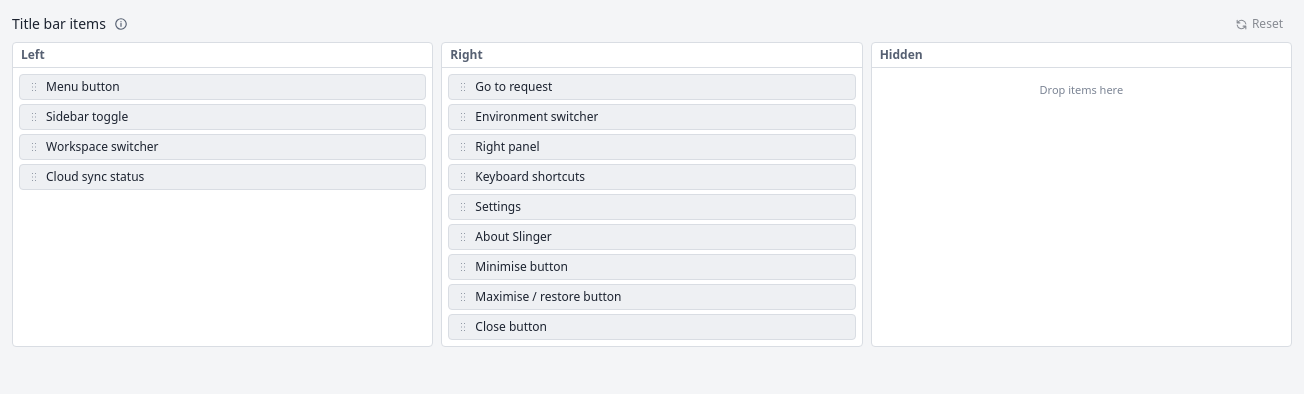
Test: title bar layout › the editor moves items with the arrow keys, saves at once, and resets
The width and height of the screenshot is (1304, 394).
# Workspace switcher: up within Left, then to Right, then to Hidden.
Press ArrowUp in the button "Workspace switcher", box [19,134,426,160]
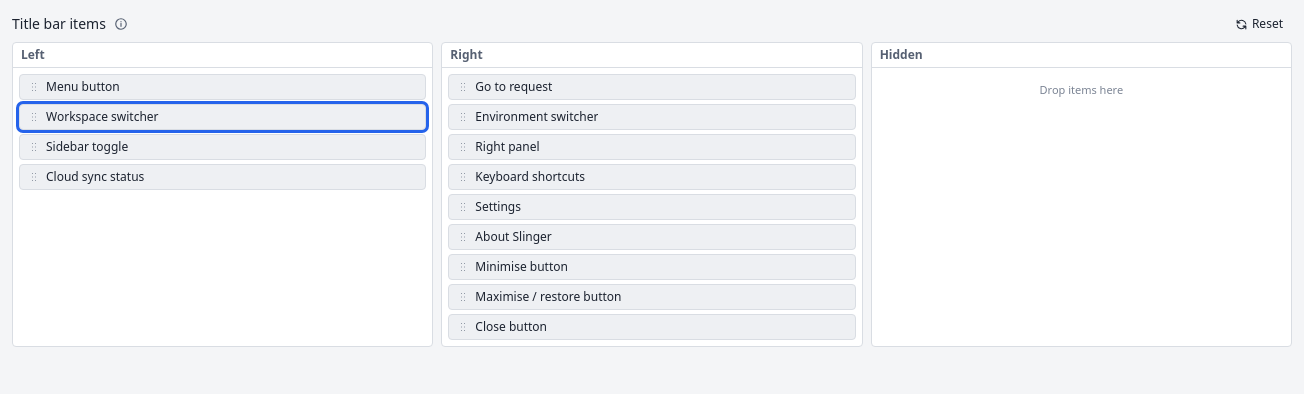
Press ArrowRight in the button "Workspace switcher", box [19,104,426,130]
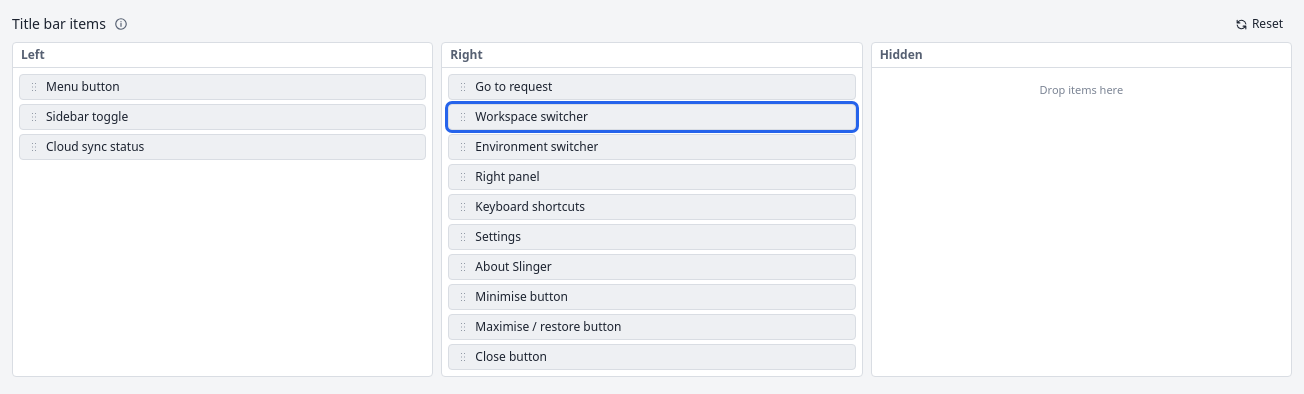
Press ArrowRight in the button "Workspace switcher", box [448,104,856,130]
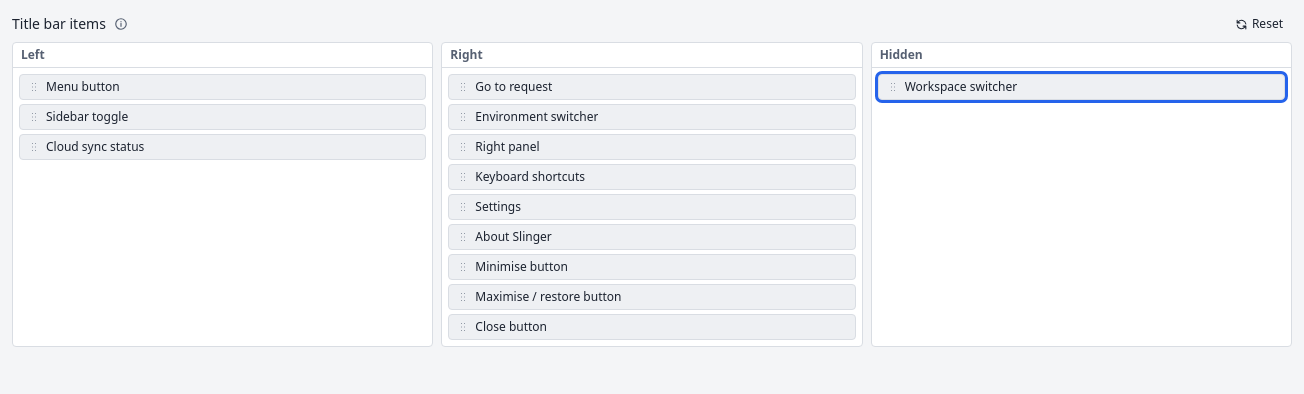
# Settings cannot be hidden.
Press ArrowRight in the button with aria-label "Settings, right", box [448,194,856,220]
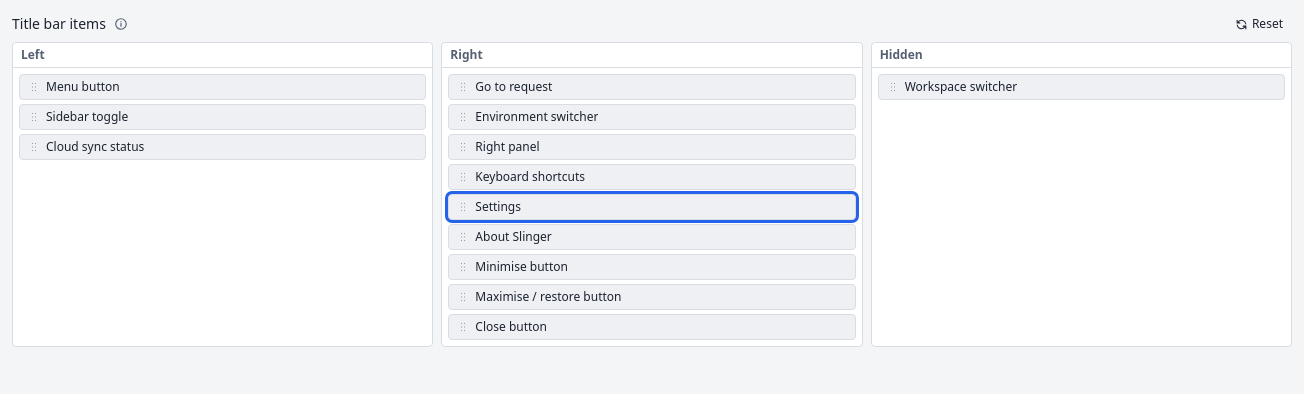
Click the button "Reset".
click(1259, 24)  # box [1226,12,1292,36]
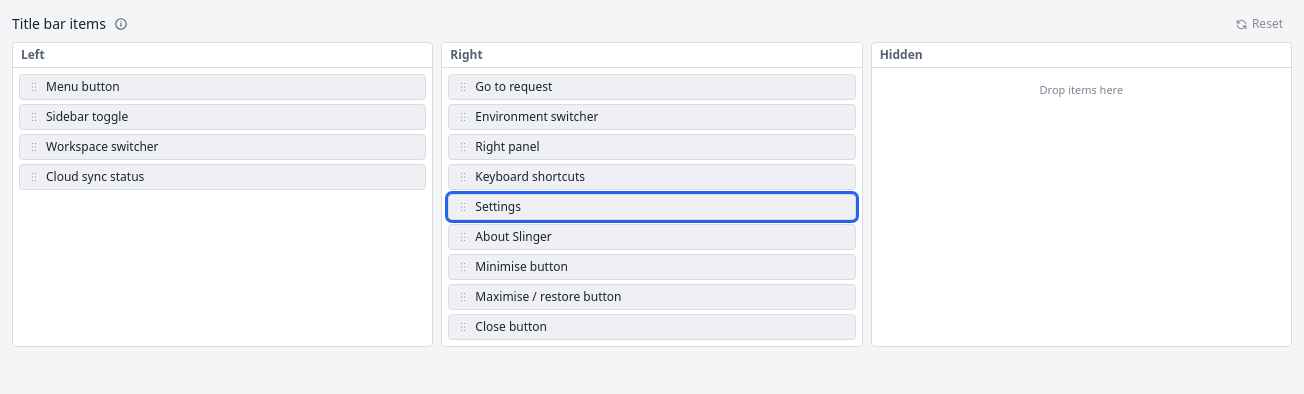
Check: the button "Reset" is disabled, box [1226,12,1292,36]
